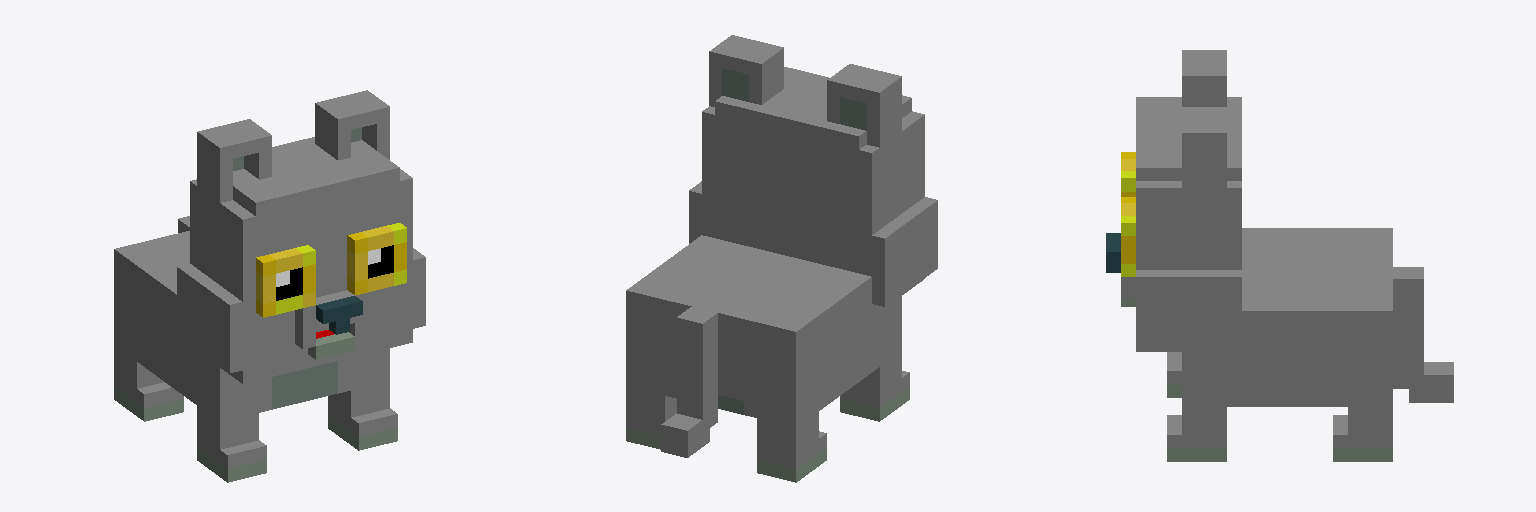
3 views of the same model, side by side, from view 1: azimuth 30°, elevation 25°; view 2: azimuth 150°, elevation 25°; view 3: azimuth 270°, elevation 25° (orthographic).
Visible parts, largest first — view 1: object 1; view 2: object 1; view 3: object 1.
Boxes of the visible parts, box(x1,y1,x2,y2) form: object 1: box(114, 90, 425, 482); object 1: box(626, 35, 937, 482); object 1: box(1106, 50, 1453, 461).
Bounding box in the file's own units: 1.5 × 2.4 × 2.3.
Materials: 1 (1 with a texture image).